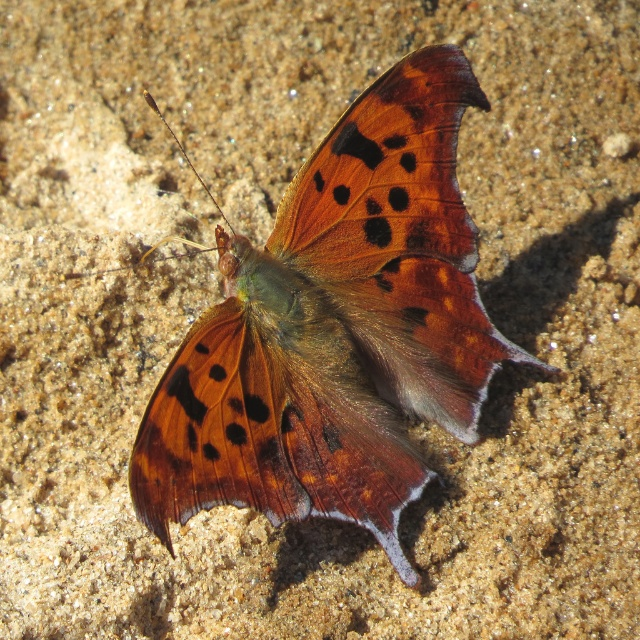Butterfly: (62, 43, 561, 588)
